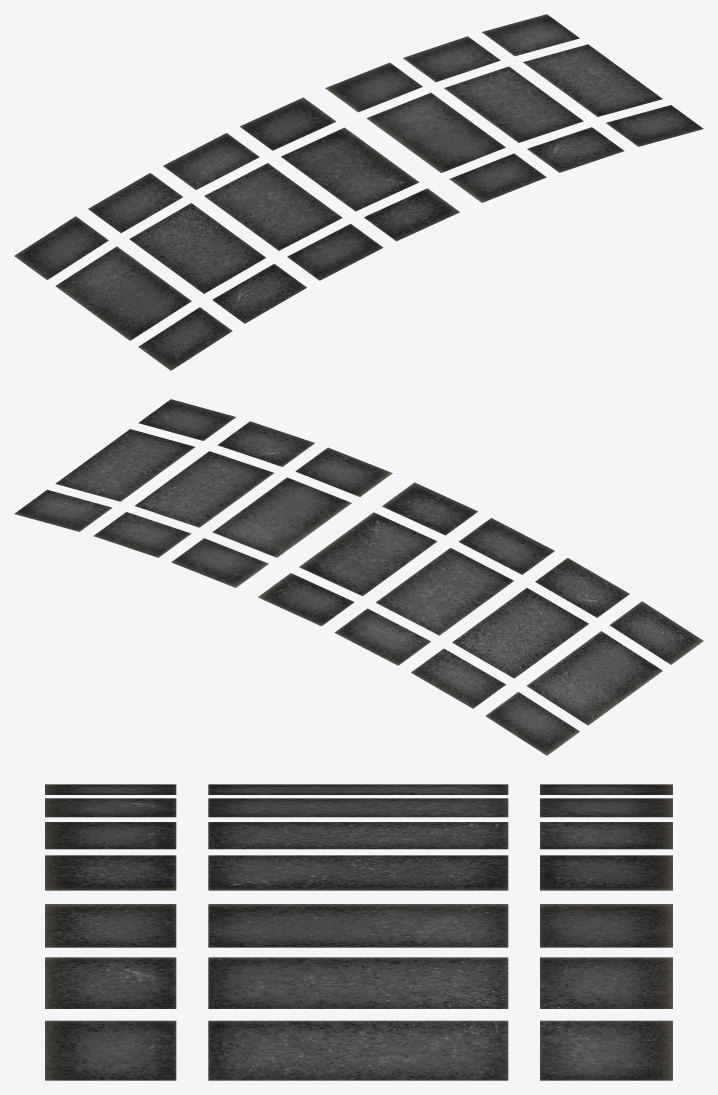
File: SM_RoofGlass1.FBX
The picture shows the model from 3 angles, top to bottom: view 1: azimuth 30°, elevation 25°; view 2: azimuth 150°, elevation 25°; view 3: azimuth 270°, elevation 25°; orthographic projection. The views are drawn at different scales.
Visible parts, largest first — view 1: SM_RoofGlass1; view 2: SM_RoofGlass1; view 3: SM_RoofGlass1.
Part boxes in pixels (x1,y1,x2,y2): SM_RoofGlass1: [14, 14, 703, 370]; SM_RoofGlass1: [14, 399, 703, 755]; SM_RoofGlass1: [45, 784, 672, 1080].
Size of the model in its own units: 668 by 341 by 134.
